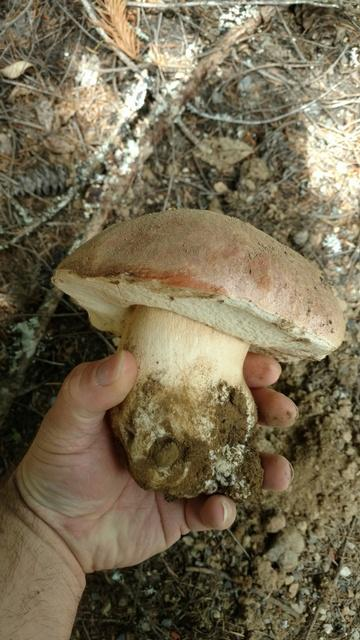edible_mushroom: (50, 206, 346, 502)
